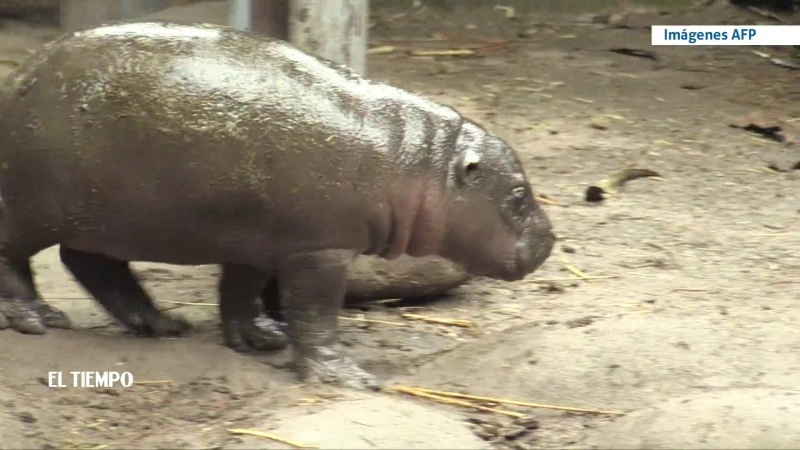hipopotamo: (1, 15, 565, 392)
